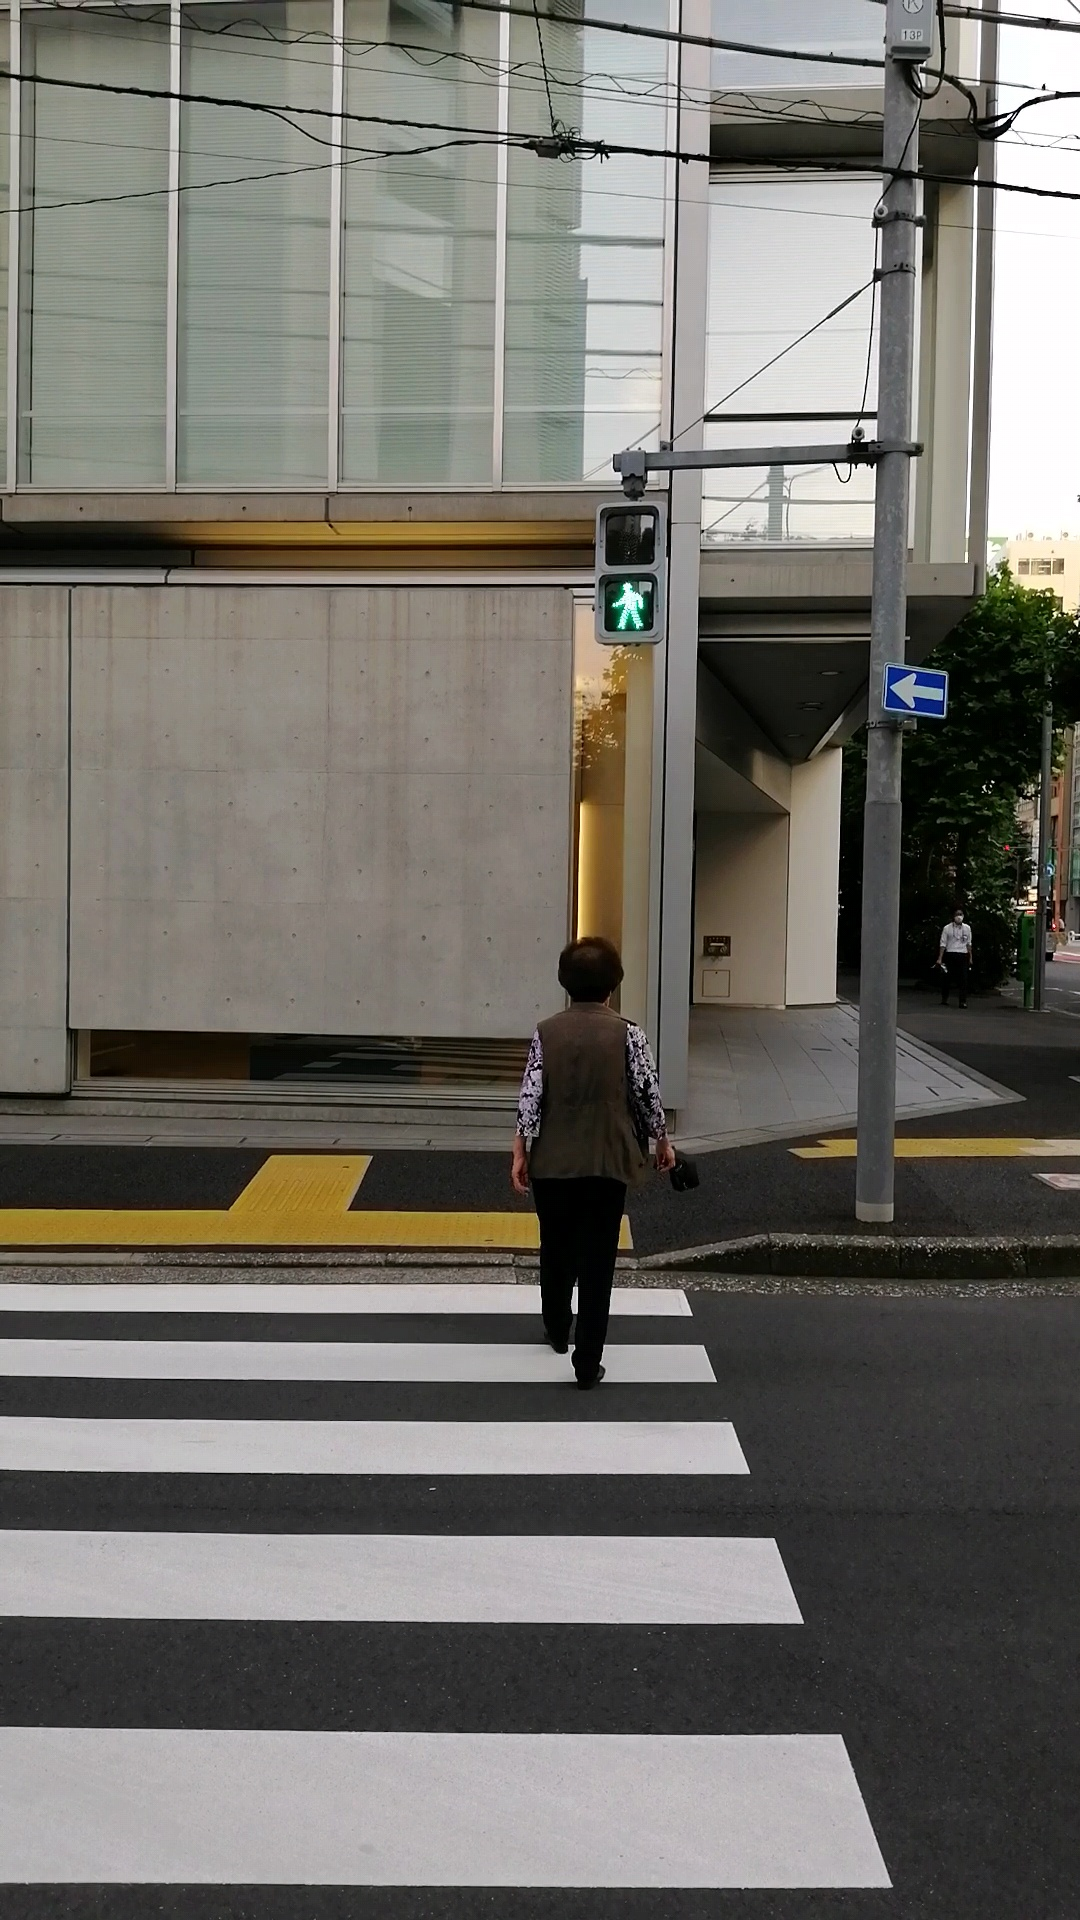green: (593, 502, 669, 645)
